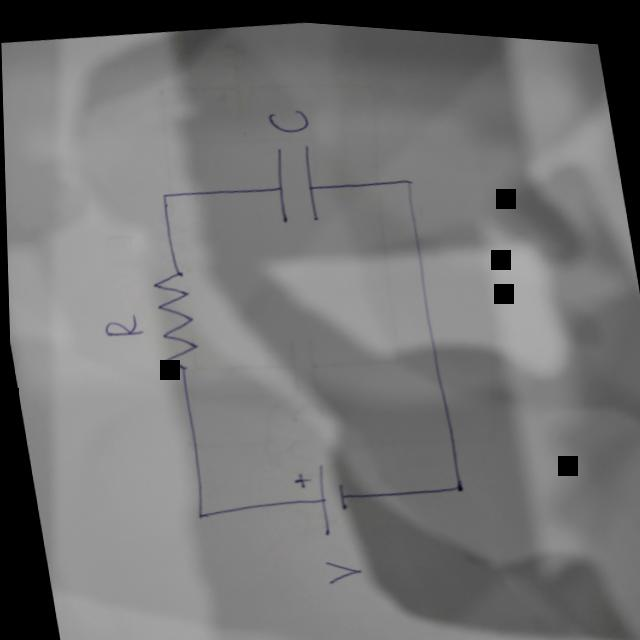capacitor: (265, 135, 324, 224)
junction: (444, 471, 466, 491), (155, 185, 175, 202), (398, 168, 416, 184), (190, 505, 204, 518)
resistor: (143, 263, 203, 373)
source: (286, 452, 352, 539)
text: (98, 307, 145, 340), (265, 100, 311, 132), (318, 551, 362, 583)
